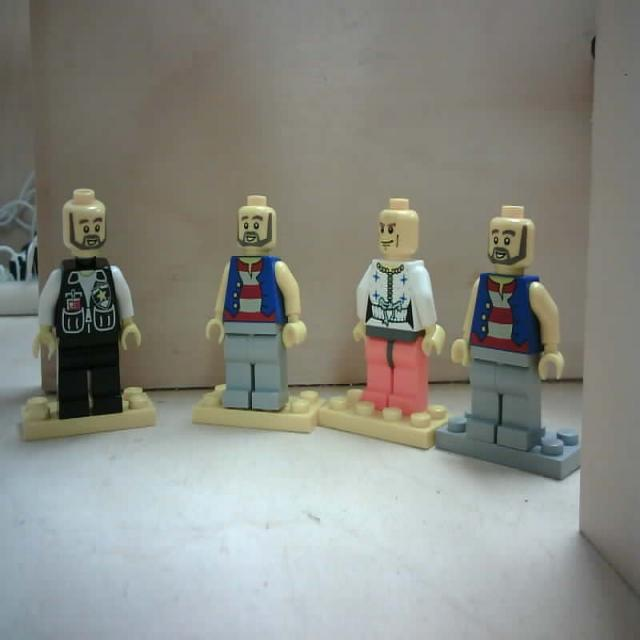Lego-People: (430, 203, 586, 486), (14, 183, 163, 454), (315, 193, 458, 466), (186, 184, 326, 456)
